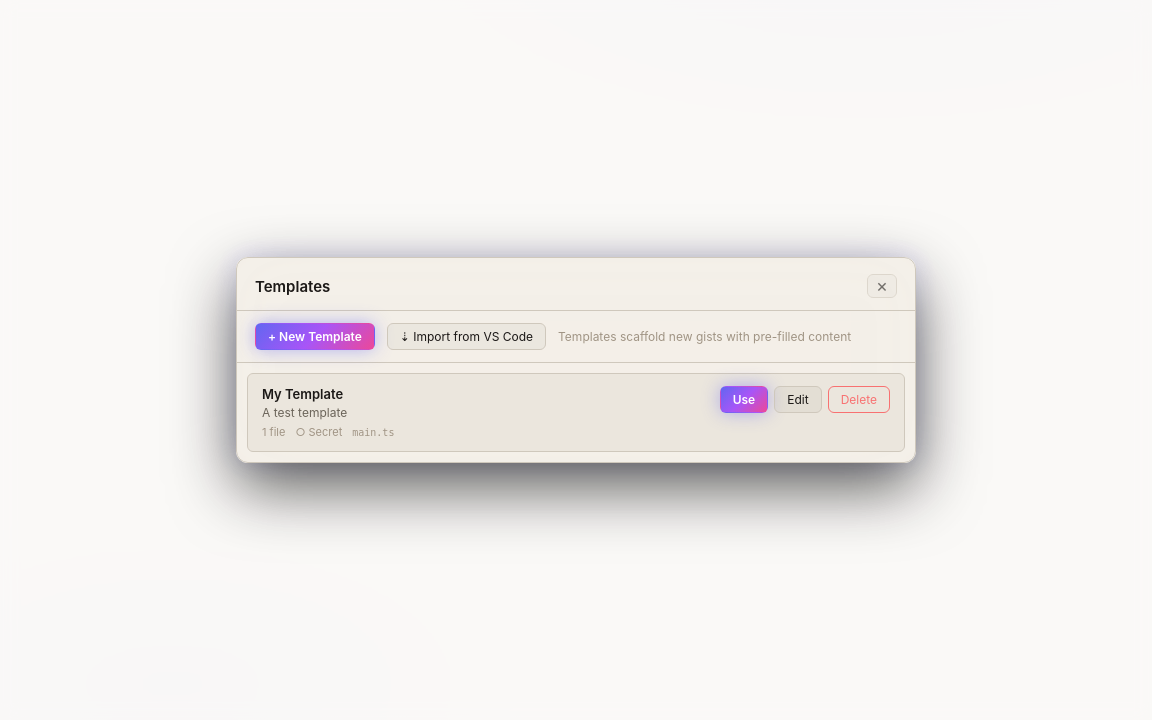
TemplatesModal › Edit button switches to the edit form
Click the button "Edit".
click(798, 400)  # box [774,386,822,413]
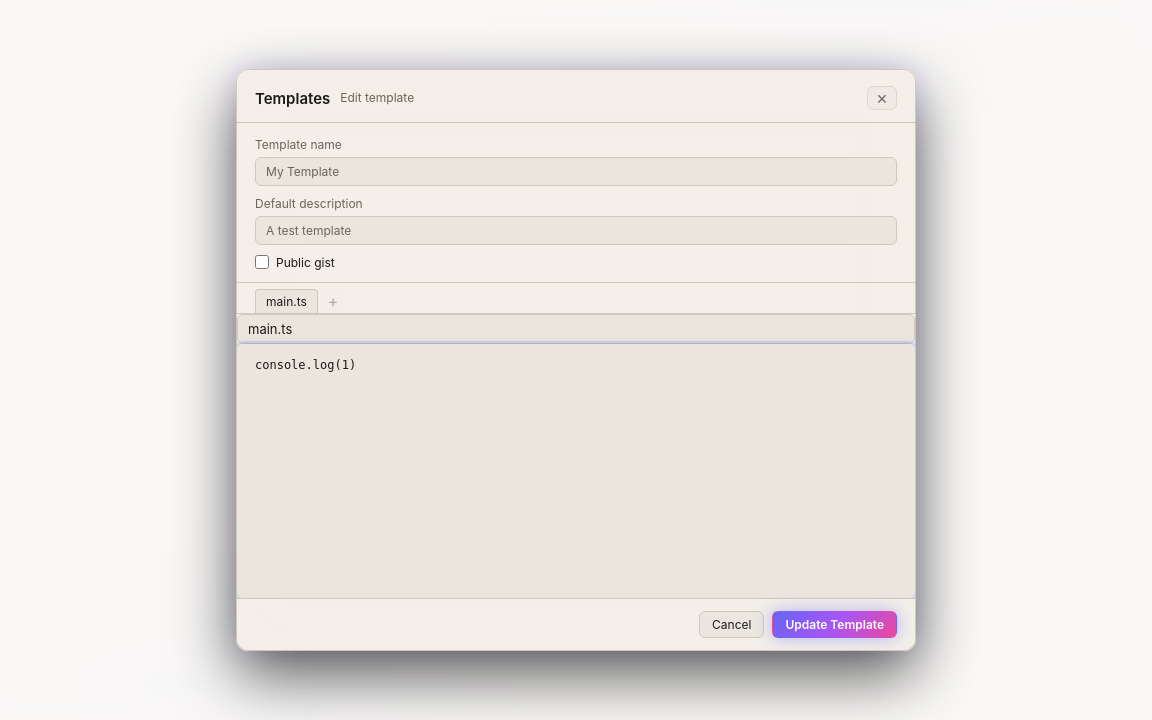
Check: the text "Edit template" is shown, box [340,90,414,105]
Check: the field with placeholder "e.g. React Component" is shown, box [255,157,897,186]
